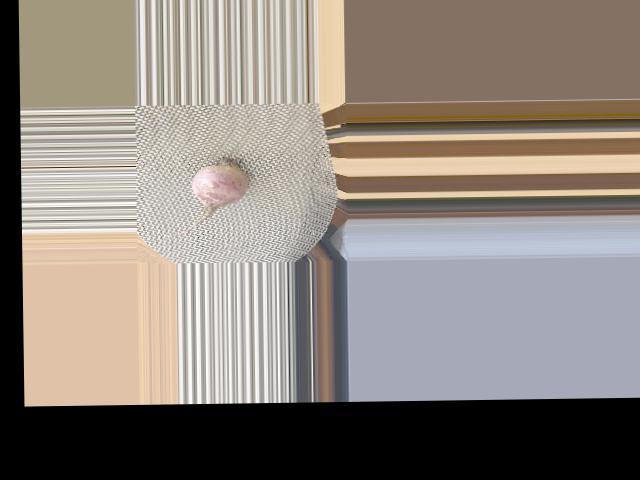beet: (166, 156, 250, 236)
